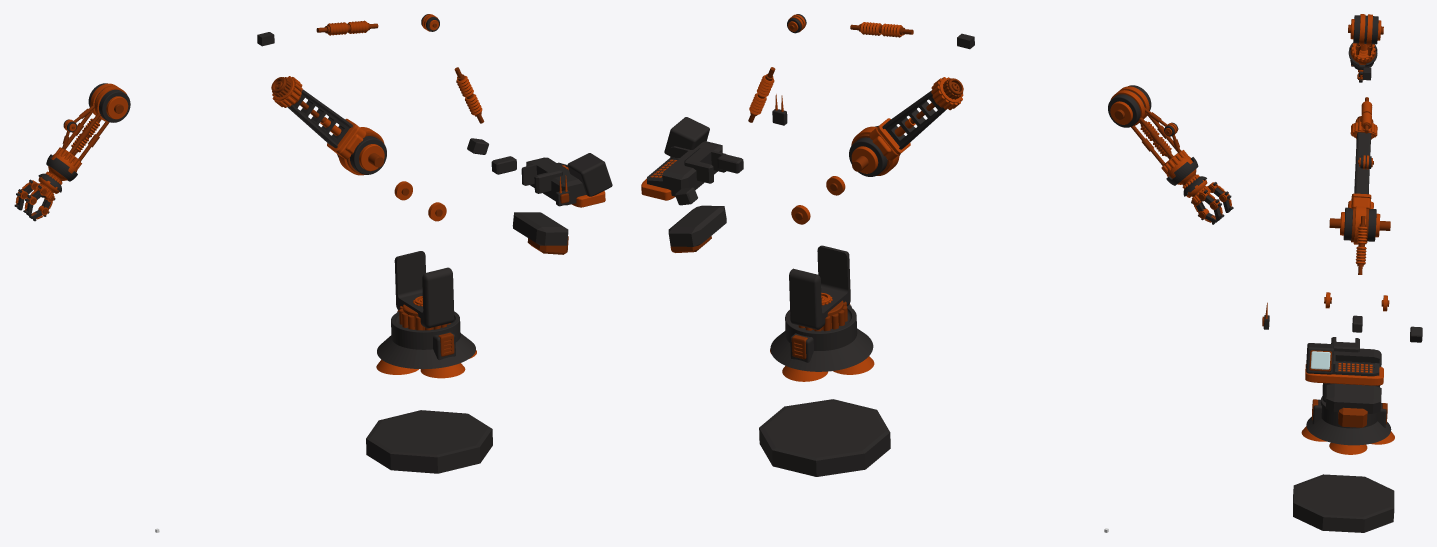
Rendered from robot-arm.glb.
3 views of the same model, side by side, from view 1: azimuth 30°, elevation 25°; view 2: azimuth 150°, elevation 25°; view 3: azimuth 270°, elevation 25° (orthographic). The views are drawn at different scales.
Visible parts, largest first — view 1: obj_1, obj_14, obj_3, obj_0, obj_2, obj_10; view 2: obj_1, obj_14, obj_3, obj_0, obj_2, obj_10; view 3: obj_14, obj_2, obj_1, obj_0, obj_3, obj_10, obj_12, obj_7, obj_6, obj_4, obj_11.
Part boxes in pixels (left/top/right/bottom): obj_1: left=376, top=251, right=476, bottom=378; obj_14: left=366, top=410, right=492, bottom=473; obj_3: left=14, top=83, right=130, bottom=221; obj_0: left=271, top=76, right=386, bottom=175; obj_2: left=521, top=153, right=612, bottom=207; obj_10: left=512, top=212, right=568, bottom=245; obj_1: left=770, top=245, right=874, bottom=381; obj_14: left=759, top=399, right=890, bottom=476; obj_3: left=1108, top=85, right=1233, bottom=224; obj_0: left=849, top=77, right=963, bottom=176; obj_2: left=641, top=117, right=726, bottom=200; obj_10: left=668, top=205, right=726, bottom=246; obj_14: left=1293, top=474, right=1394, bottom=532; obj_2: left=1305, top=337, right=1383, bottom=385; obj_1: left=1301, top=350, right=1394, bottom=454; obj_0: left=1329, top=116, right=1390, bottom=244; obj_3: left=1348, top=14, right=1383, bottom=82; obj_10: left=1325, top=383, right=1381, bottom=413; obj_12: left=1338, top=407, right=1367, bottom=427; obj_7: left=1355, top=216, right=1367, bottom=274; obj_6: left=1361, top=97, right=1372, bottom=133; obj_4: left=1324, top=292, right=1389, bottom=311; obj_11: left=1410, top=326, right=1422, bottom=342.
Size of the model in its own units: 414 by 323 by 120.
